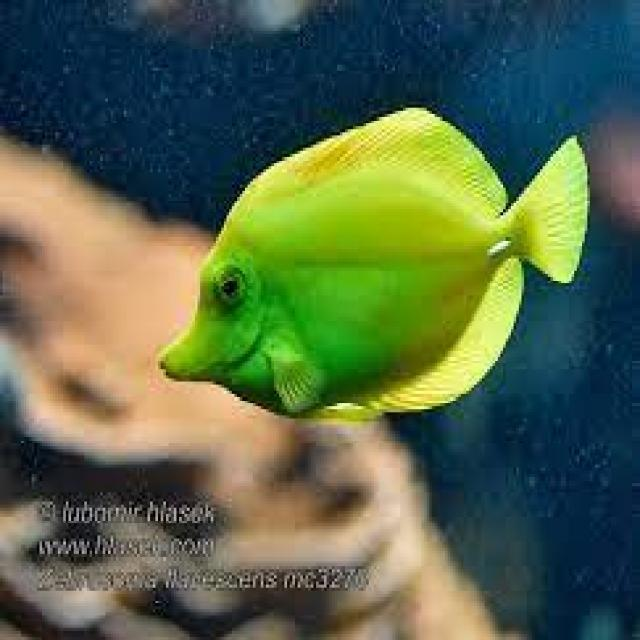TangFish: (156, 103, 591, 422)
